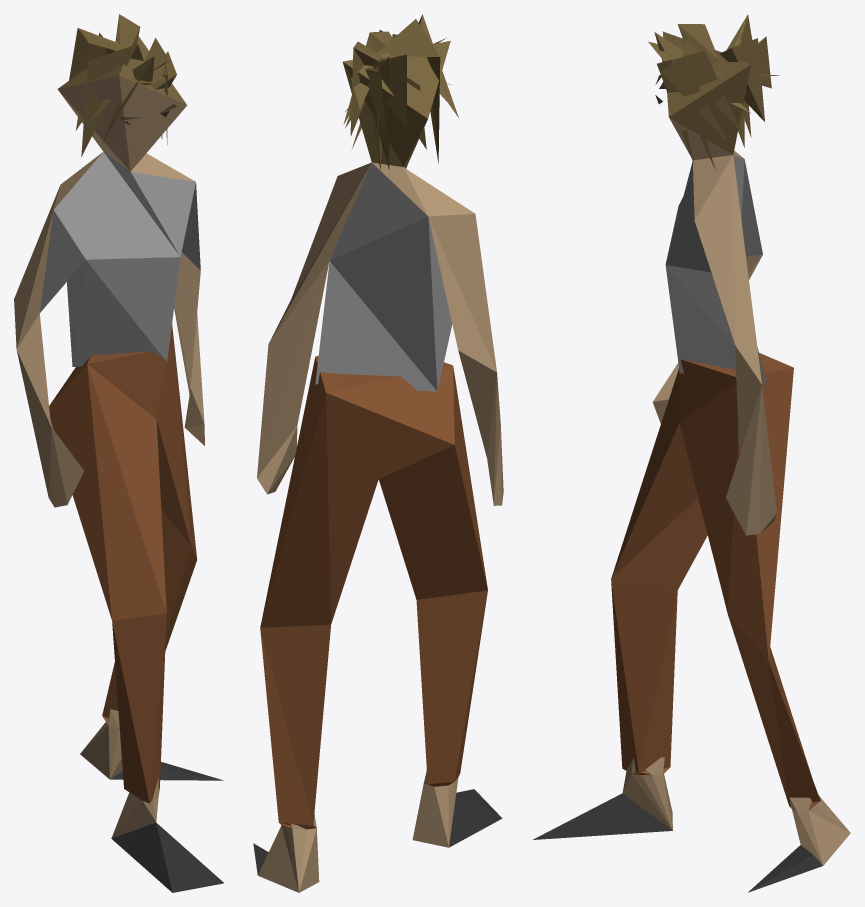
File: resident-lod.glb
3 views of the same model, side by side, from view 1: azimuth 30°, elevation 25°; view 2: azimuth 150°, elevation 25°; view 3: azimuth 270°, elevation 25° (orthographic). The views are drawn at different scales.
Parts seen in each view (by area): view 1: Resident; view 2: Resident; view 3: Resident.
Boxes of the visible parts, x1,y1,x2,y2 form: Resident: (14,14,223,892); Resident: (253,14,503,892); Resident: (533,14,850,892).
Bounding box in the file's own units: 0.5188 × 1.8 × 0.6356.
